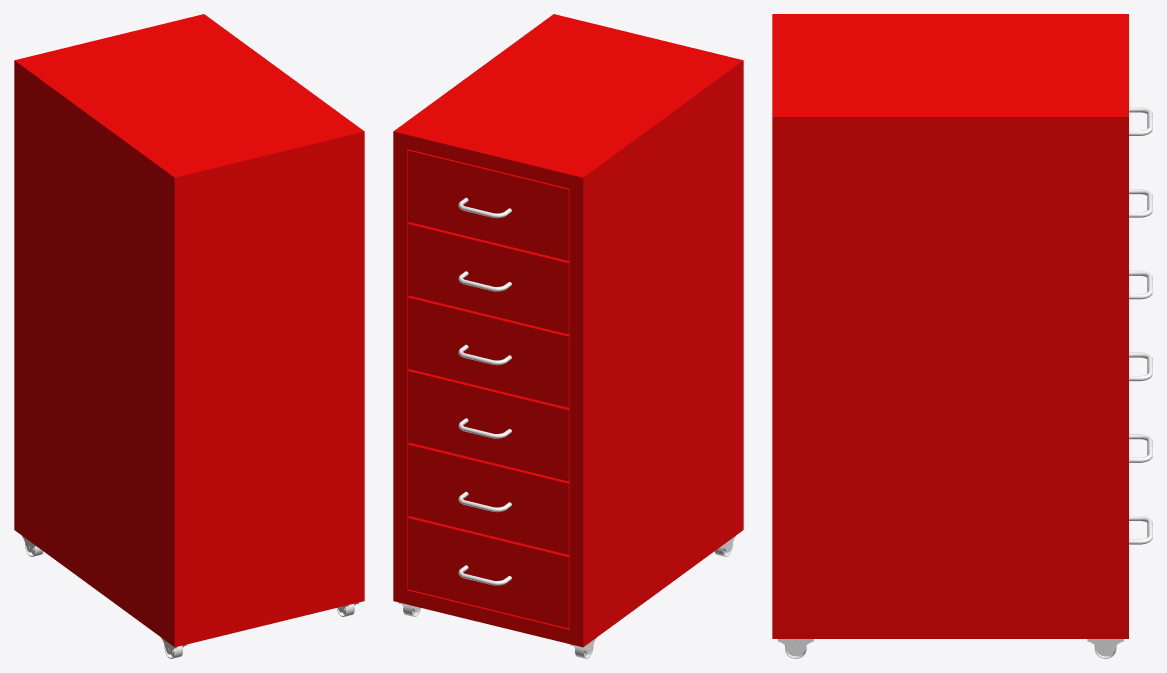
3 renders of one model, left to right at view 1: azimuth 30°, elevation 25°; view 2: azimuth 150°, elevation 25°; view 3: azimuth 270°, elevation 25°, orthographic. The views are drawn at different scales.
Parts seen in each view (by area): view 1: mesh34_mesh34-geometry; view 2: mesh34_mesh34-geometry, mesh32_mesh32-geometry, mesh7_mesh7-geometry; view 3: mesh34_mesh34-geometry, mesh7_mesh7-geometry, mesh13_mesh13-geometry.
Part boxes in pixels (x1,y1,x2,y2): mesh34_mesh34-geometry: (14,14,364,647); mesh34_mesh34-geometry: (393,14,743,647); mesh32_mesh32-geometry: (408,149,569,628); mesh7_mesh7-geometry: (458,197,511,585); mesh34_mesh34-geometry: (772,14,1128,638); mesh7_mesh7-geometry: (1129,107,1152,544); mesh13_mesh13-geometry: (777,639,1123,654).
Bounding box in the file's own units: 0.3243 × 0.7992 × 0.5061.
